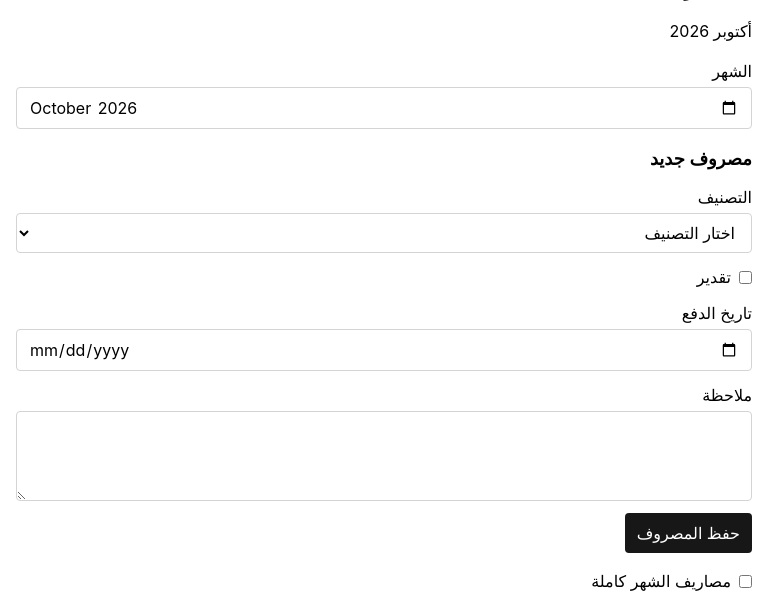
ExpensesPage › shows the load error and unlocks when the owner retries a failed reload
Select "إيجار" in the dropdown labelled "التصنيف" at (384, 233), box [16,213,752,253]
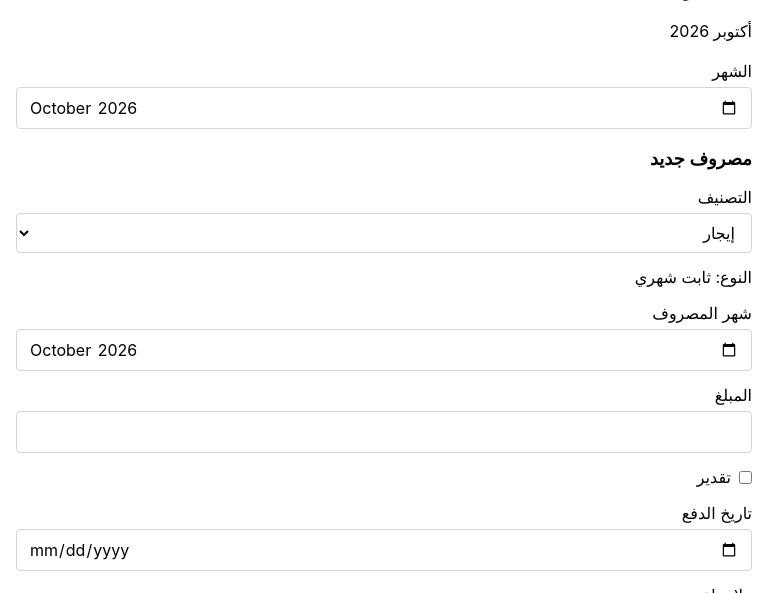
Type "1000" into the field labelled "المبلغ" at (384, 432), box [16,411,752,453]
(page scrolled)
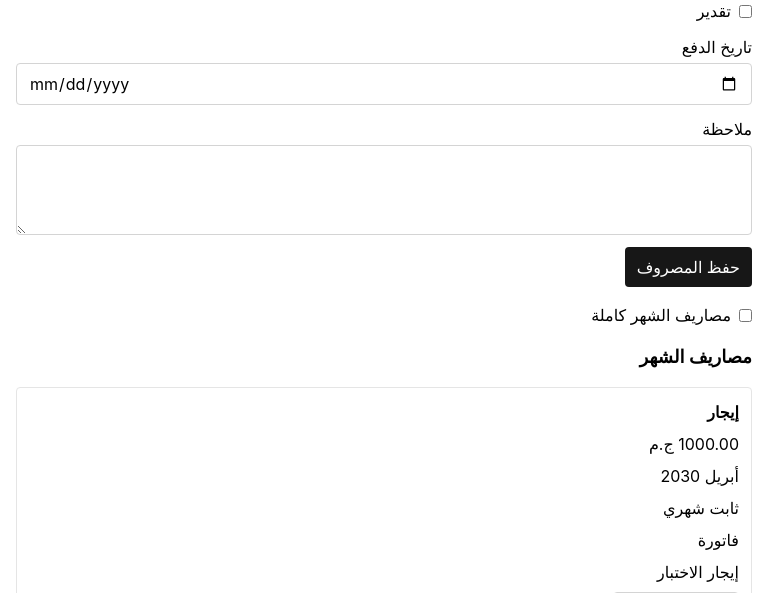
Click the button "حفظ المصروف" at (688, 267), box [625,247,752,287]
(page scrolled)
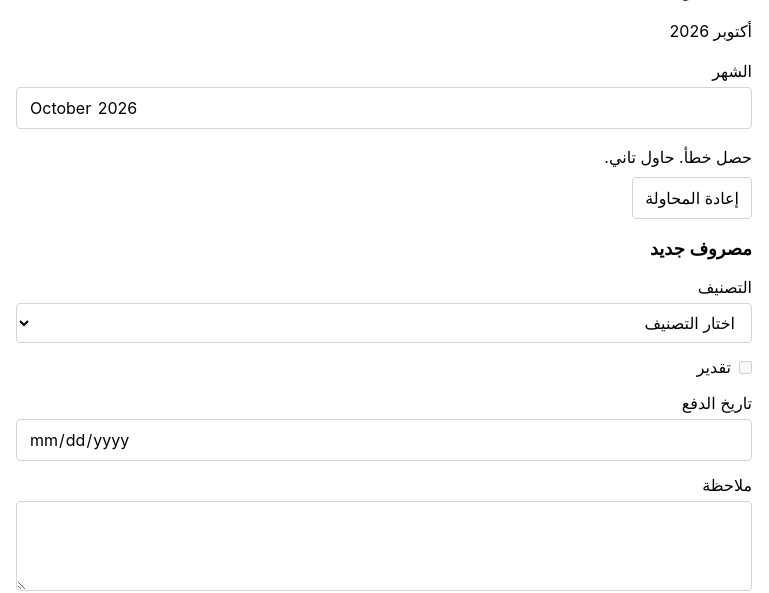
Expected: the message reads "حصل خطأ. حاول تاني.", [604,147,752,167]
Expected: the button "إعادة المحاولة" is enabled
Expected: the field labelled "الشهر" is disabled, [16,87,752,129]
Click the button "إعادة المحاولة" at (692, 198), box [632,177,752,219]
(page scrolled)
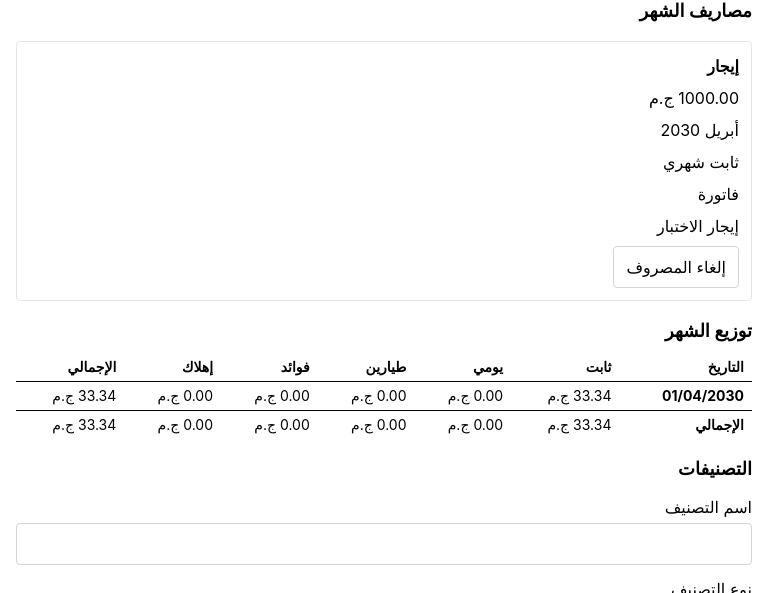
Expected: the button "إلغاء المصروف" is enabled, [614,246,739,288]
Expected: the message "حصل خطأ. حاول تاني." is gone
